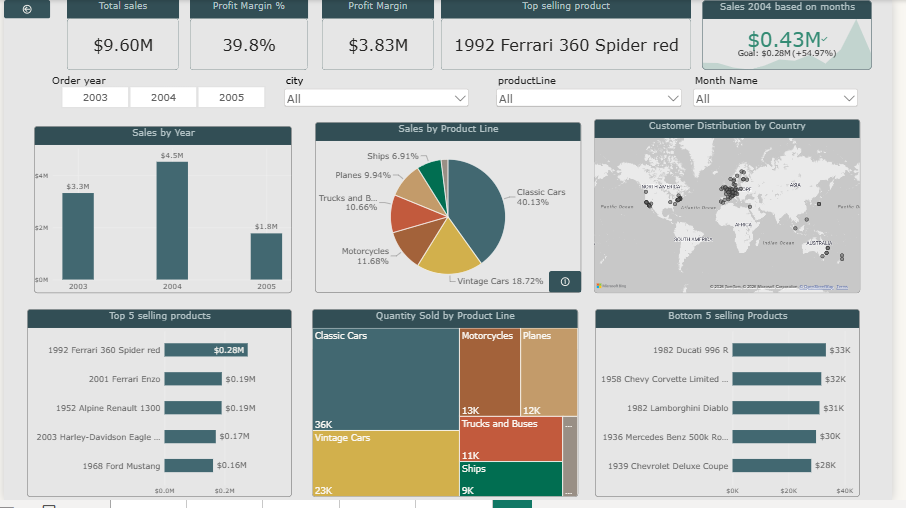

The dashboard page shown, as its layout file describes it:
{"tool":"powerbi","page":{"name":"Page 1","canvas":[1920,1080],"ordinal":0},"visuals":[{"type":"cardVisual","title":"Top selling product","fields":{"Data":["order details.Most Ordered Product"]},"box":[943.9,0,540,151.2],"z":0},{"type":"cardVisual","title":"Profit Margin","fields":{"Data":["order details.total_profit"]},"box":[686.9,0,241.9,151.2],"z":1000},{"type":"barChart","title":"Top 5 selling products","fields":{"Category":["products.productName"],"Y":["Sum(order details.Sales)"]},"box":[49.7,667.4,572.4,406.1],"z":2000},{"type":"pieChart","title":"Sales by Product Line","fields":{"Category":["productlines.productLine"],"Y":["Sum(order details.Sales)"]},"box":[671.8,263.5,574.6,369.4],"z":3000},{"type":"actionButton","box":[0,0,100,40],"z":5000},{"type":"slicer","title":"Order year","fields":{"Values":["orders.orderYear"]},"box":[104.1,159.8,479.4,75.3],"z":6000},{"type":"slicer","fields":{"Values":["orders.Month Name"]},"box":[1483.9,159.8,365,71.3],"z":7000},{"type":"map","title":"Customer Distribution by Country","fields":{"Category":["customers.city"]},"box":[1274.4,257,574.6,375.8],"z":8000},{"type":"treemap","title":"Quantity Sold by Product Line","fields":{"Group":["productlines.productLine"],"Values":["Sum(order details.quantityOrdered)"]},"box":[665.3,667.4,574.6,406.1],"z":9000},{"type":"kpi","title":"Sales 2004 based on months","fields":{"Goal":["orders.sales_2003"],"Indicator":["orders.sales_2004"],"TrendLine":["orders.Month Name"]},"box":[1507.7,0,367.2,151.2],"z":10000},{"type":"clusteredColumnChart","title":"Sales by Year","fields":{"Category":["orders.orderYear"],"Y":["Sum(order details.Sales)"]},"box":[64.8,272.2,557.3,360.7],"z":11000},{"type":"cardVisual","title":"Profit Margin %","fields":{"Data":["customers.Profit_margin_per"]},"box":[401.8,0,254.9,151.2],"z":12000},{"type":"cardVisual","title":"Total sales","fields":{"Data":["customers.total_sales"]},"box":[136.1,0,241.9,151.2],"z":13000},{"type":"slicer","title":"City","fields":{"Values":["offices.city"]},"box":[600.5,159.8,408.2,97.2],"z":14000},{"type":"slicer","fields":{"Values":["productlines.productLine"]},"box":[1058.4,159.8,410.4,97.2],"z":15000},{"type":"barChart","title":"Bottom 5 selling Products","fields":{"Category":["products.productName"],"Y":["Sum(order details.Sales)"]},"box":[1276.6,667.4,572.4,406.1],"z":15001},{"type":"actionButton","box":[1176.7,585,70,46.7],"z":15002}]}

Visuals, with their boxes in screenshot pixels (x1, y1, x2, y2), scaled from the page's 1920x1080 canvas onto the 906x508 screenshot:
"Top selling product" cardVisual: 445/0/700/71
"Profit Margin" cardVisual: 324/0/438/71
"Top 5 selling products" barChart: 23/314/294/505
"Sales by Product Line" pieChart: 317/124/588/298
actionButton: 0/0/47/19
"Order year" slicer: 49/75/275/111
slicer - orders.Month Name: 700/75/872/109
"Customer Distribution by Country" map: 601/121/872/298
"Quantity Sold by Product Line" treemap: 314/314/585/505
"Sales 2004 based on months" kpi: 711/0/885/71
"Sales by Year" clusteredColumnChart: 31/128/294/298
"Profit Margin %" cardVisual: 190/0/310/71
"Total sales" cardVisual: 64/0/178/71
"City" slicer: 283/75/476/121
slicer - productlines.productLine: 499/75/693/121
"Bottom 5 selling Products" barChart: 602/314/872/505
actionButton: 555/275/588/297
